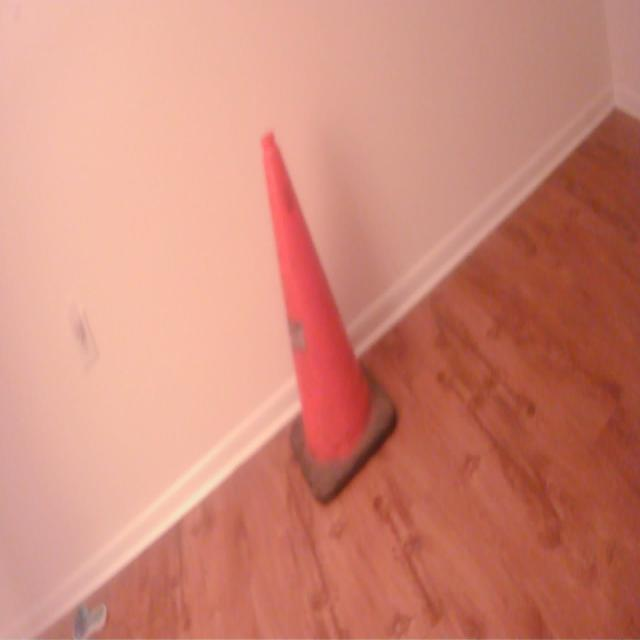traffic cone: (260, 126, 400, 509)
